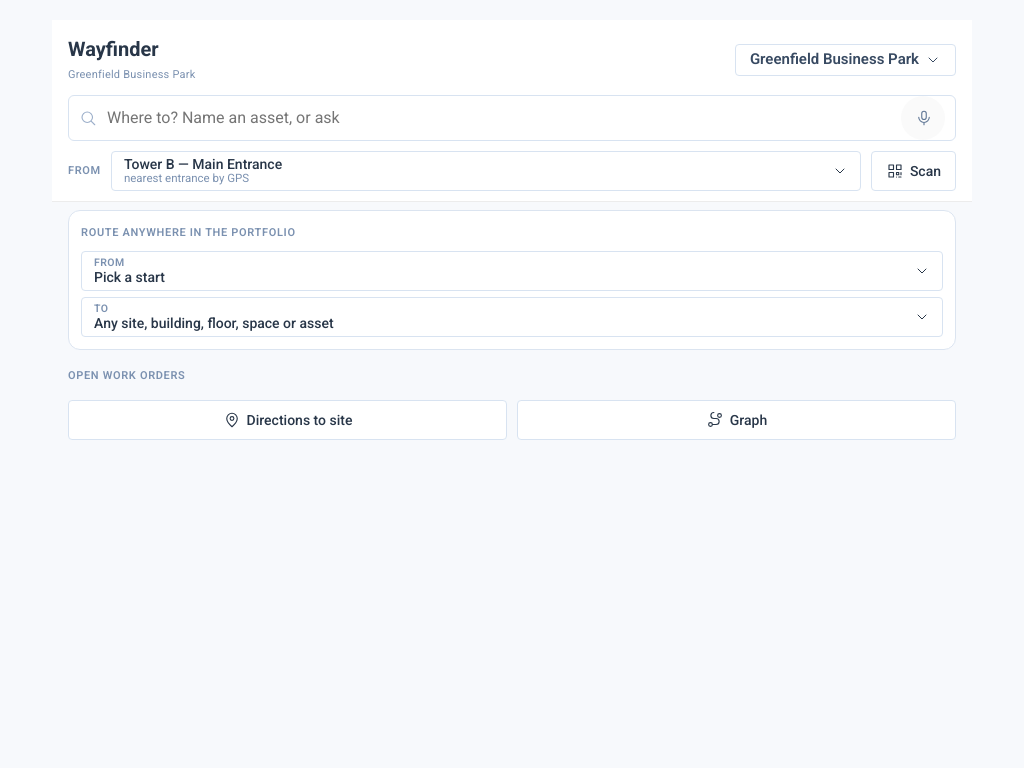
Test case: portfolio picker — hierarchy and search › drills site → building → floor, offering the container itself at each level
Click the button "To Any site, building, floor, space or asset". click: click(214, 323)
box: [81,297,943,337]
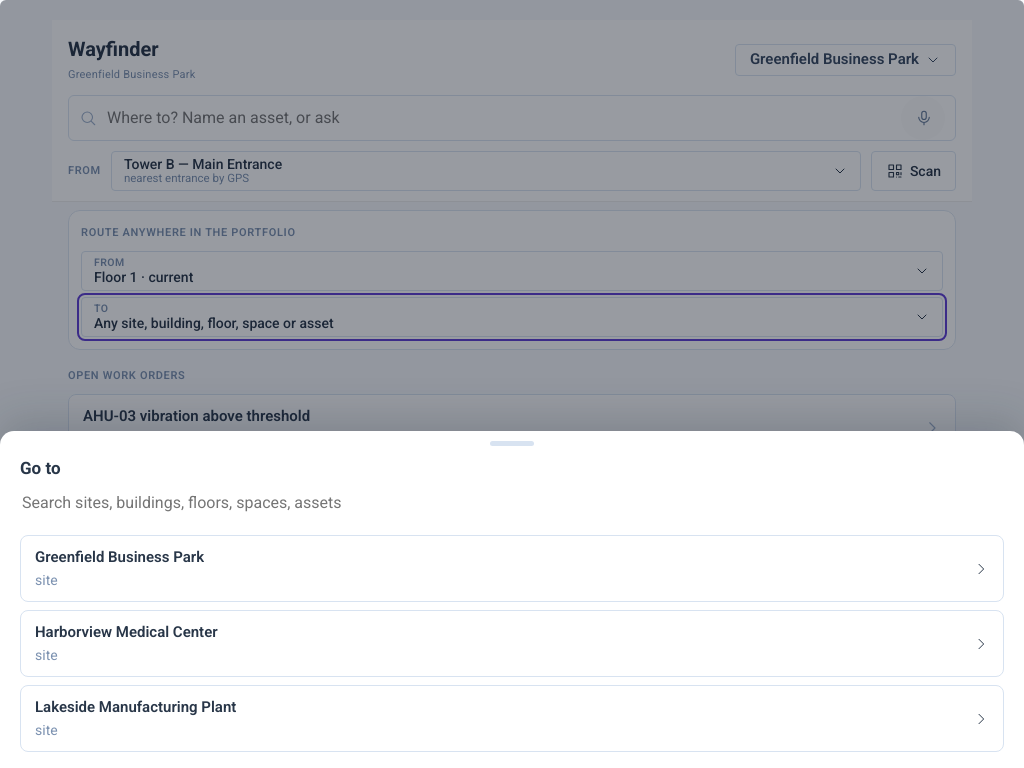
Expected: the button "Greenfield Business Park site" is shown
Click the button "Greenfield Business Park site". click: click(120, 557)
box: [20,535,1004,602]
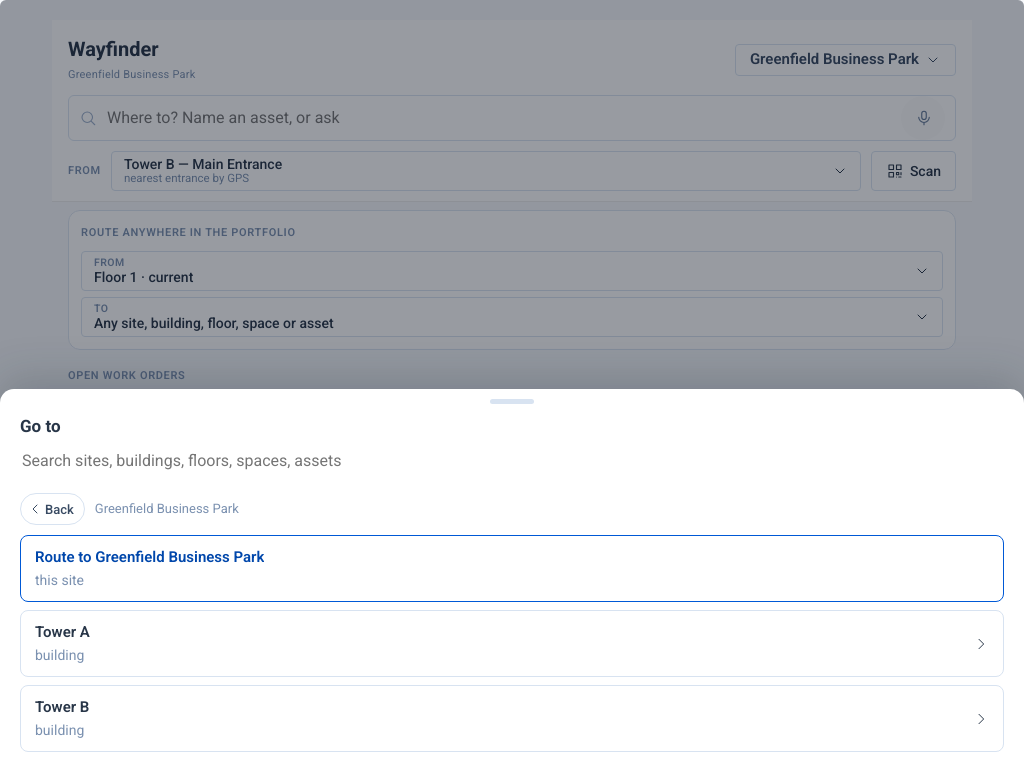
Expected: the button "Tower A building" is shown
Expected: the button "Tower B building" is shown, [20,685,1004,752]
Click the button "Tower A building". click: click(62, 632)
box: [20,610,1004,677]
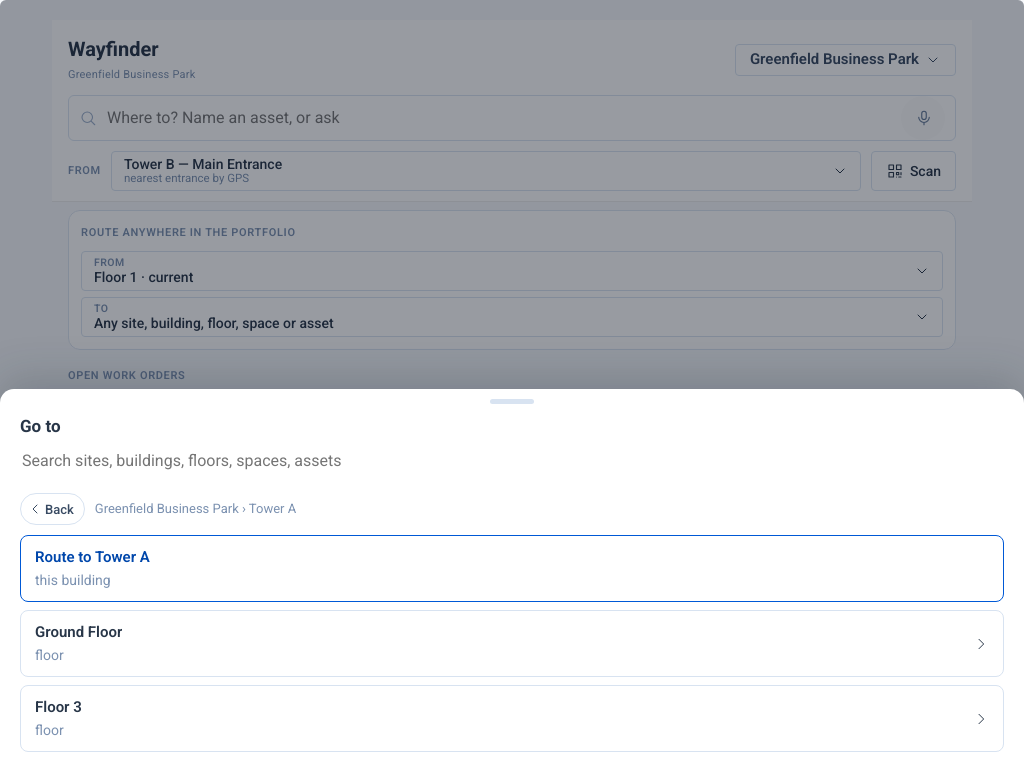
Expected: the button "Ground Floor floor" is shown, [20,610,1004,677]
Click the button "Route to Tower A this building". click: click(63, 557)
box: [20,535,1004,602]
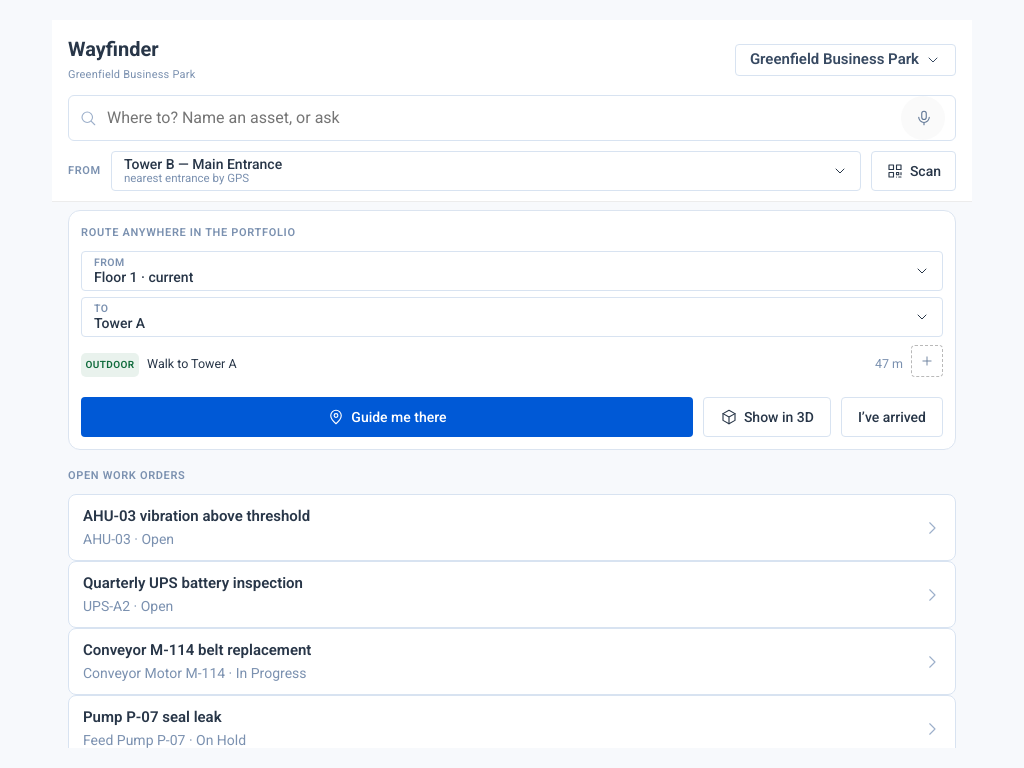
Expected: the dialog is gone
Expected: the button "To Tower A" is shown, [81,297,943,337]
